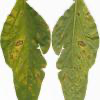Bell_pepper leaf spot: (1, 1, 52, 99), (51, 1, 99, 99)
